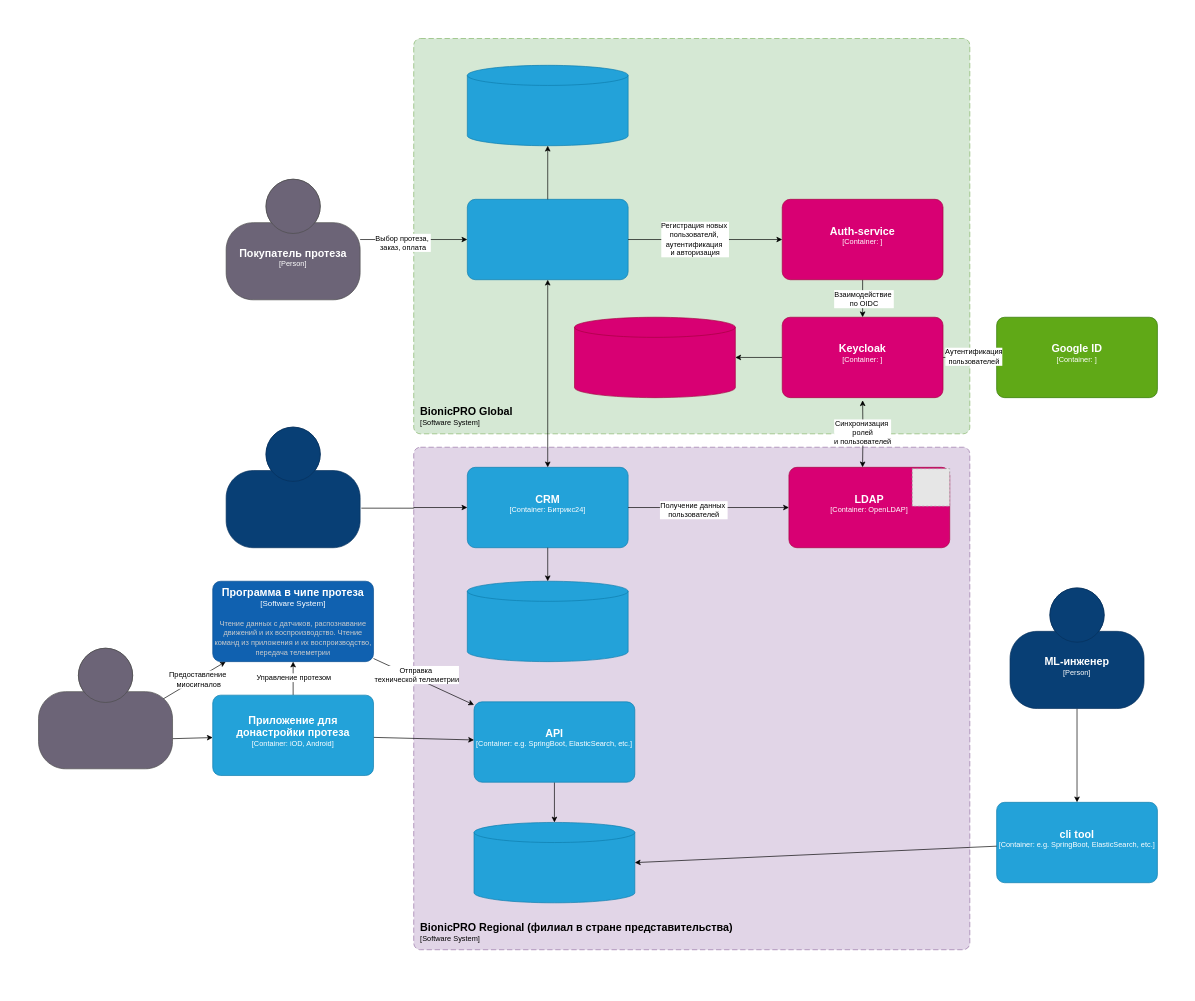
Some shapes in this 1195 by 1001 pixel diagram are drawn without their labels. Grey dashed boxes stand in for pictures. Each missing label, with the centre of its shape:
"CRM DB [Container: ]" goes at point 547,621.
"Keycloak DB [Container: PostgreSQL]" goes at point 654,357.
"Shop DB [Container: PostgreSQL]" goes at point 547,105.
"База данных [Container: PostgreSQL]" goes at point 554,862.
"Интернет-магазин [Container: Битрикс24]" goes at point 547,239.
"Оператор производства [Person]" goes at point 292,487.
"Пилот протеза [Person] С этого человека считываются данные" goes at point 105,708.
